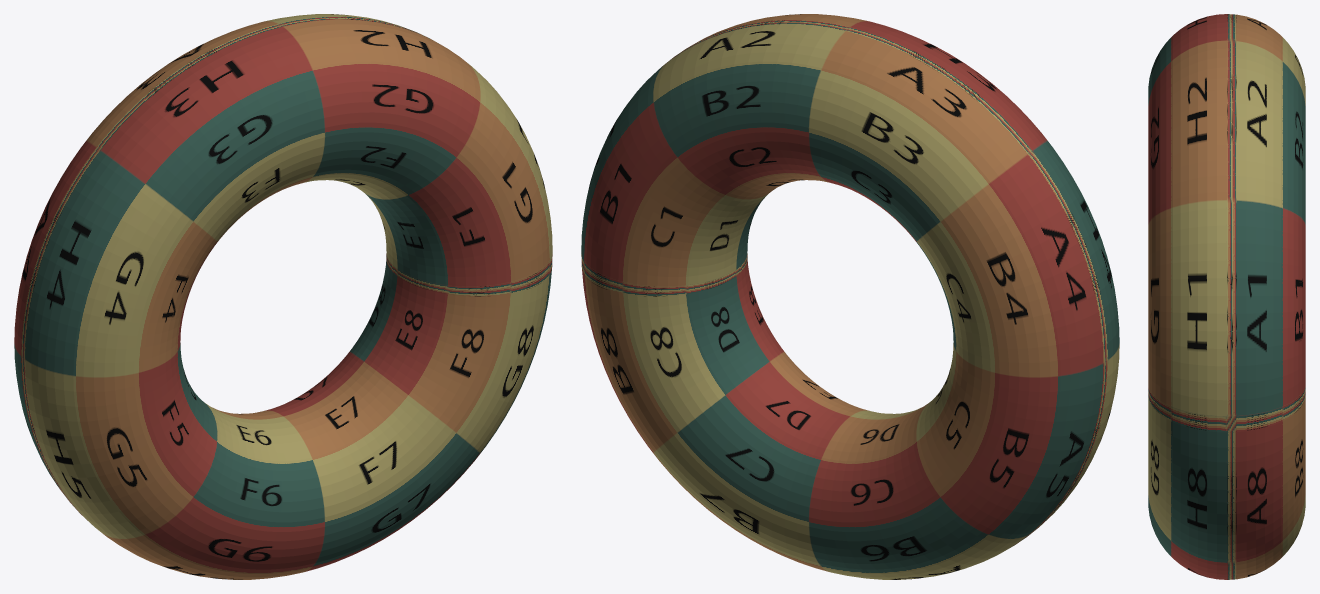
Rendered from texture_torus_R3_r5.glb.
3 renders of one model, left to right at view 1: azimuth 30°, elevation 25°; view 2: azimuth 150°, elevation 25°; view 3: azimuth 270°, elevation 25°, orthographic. The views are drawn at different scales.
Parts seen in each view (by area): view 1: world; view 2: world; view 3: world.
Part boxes in pixels (x1=…): world: x1=14, y1=14, x2=552, y2=579; world: x1=581, y1=14, x2=1119, y2=579; world: x1=1148, y1=14, x2=1305, y2=579.
Size of the model in its own units: 23.11 by 23.11 by 6.43.
1 material, 1 textured.
